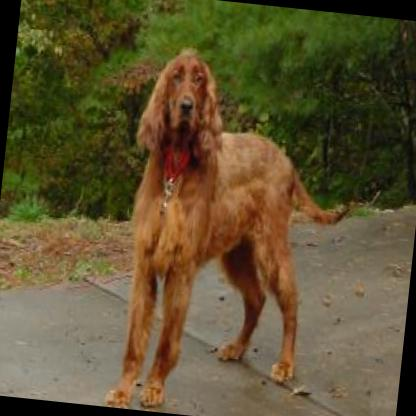Irish_setter: (111, 40, 359, 413)
